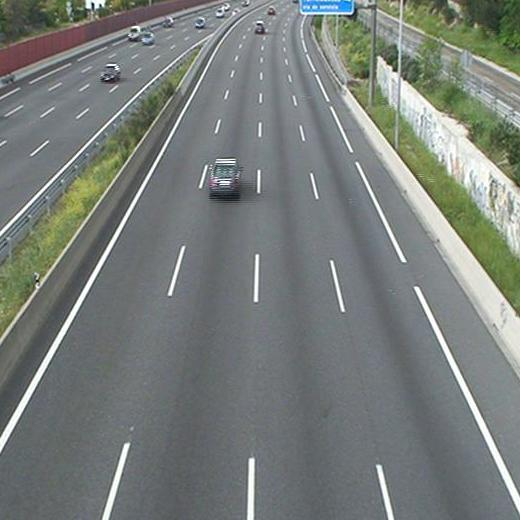car: (210, 158, 240, 193), (254, 21, 266, 32), (267, 6, 275, 15)
